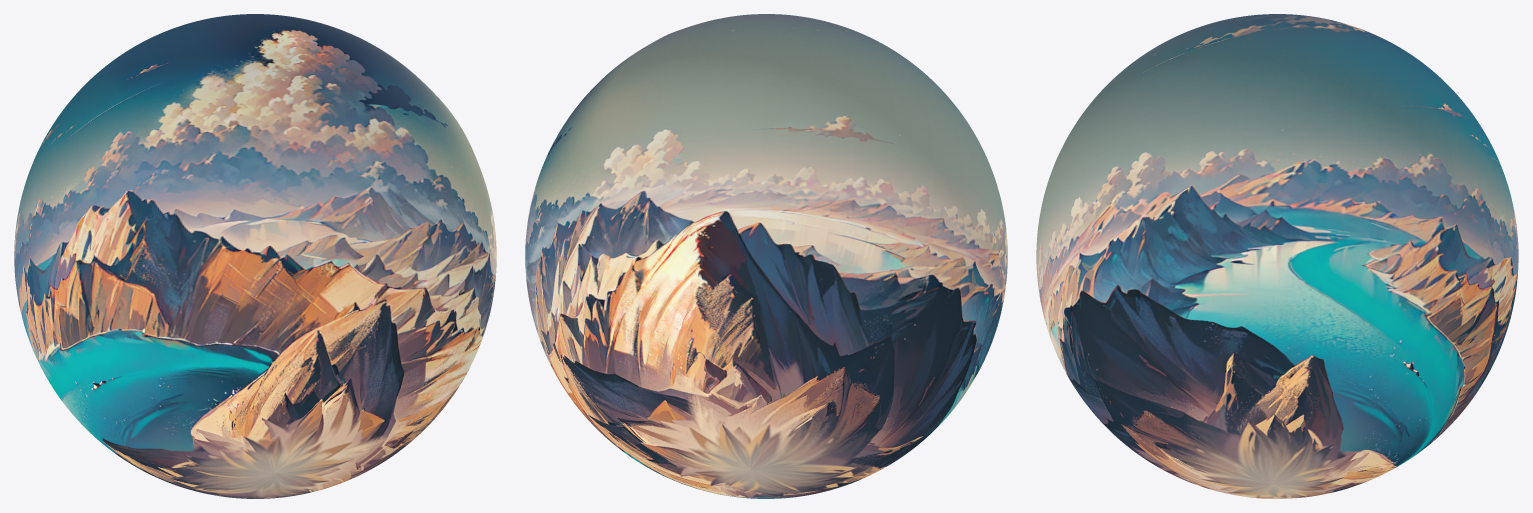
3 views of the same model, side by side, from view 1: azimuth 30°, elevation 25°; view 2: azimuth 150°, elevation 25°; view 3: azimuth 270°, elevation 25° (orthographic).
Parts seen in each view (by area): view 1: Skybox_0; view 2: Skybox_0; view 3: Skybox_0.
Part boxes in pixels (x1,y1,x2,y2): Skybox_0: (14, 14, 496, 498); Skybox_0: (525, 14, 1007, 498); Skybox_0: (1036, 14, 1518, 498).
Size of the model in its own units: 298 by 299 by 298.
1 material, 1 textured.
